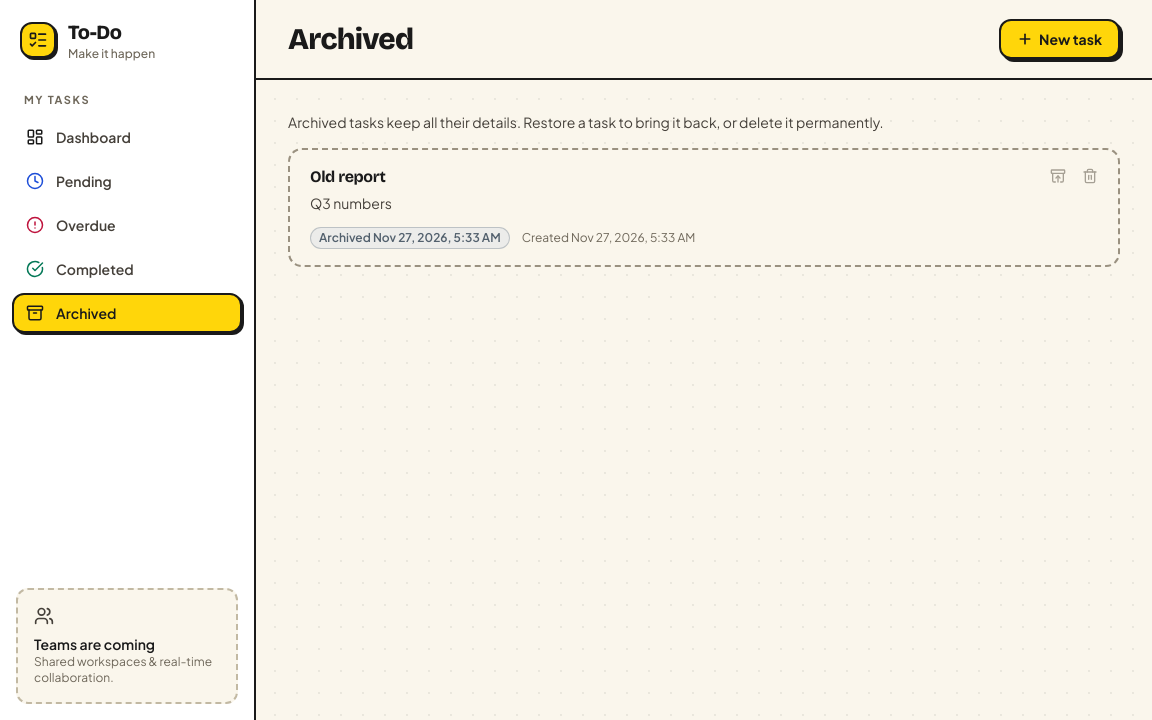
Test: Archived page › asks for confirmation before deleting permanently, warning it cannot be undone
This screenshot has width=1152, height=720.
Expected: the list named "Tasks" is shown, [288,148,1120,267]
Click the button named "Delete \"Old report\" permanently" at point(1090, 176), box [1074,160,1106,192]
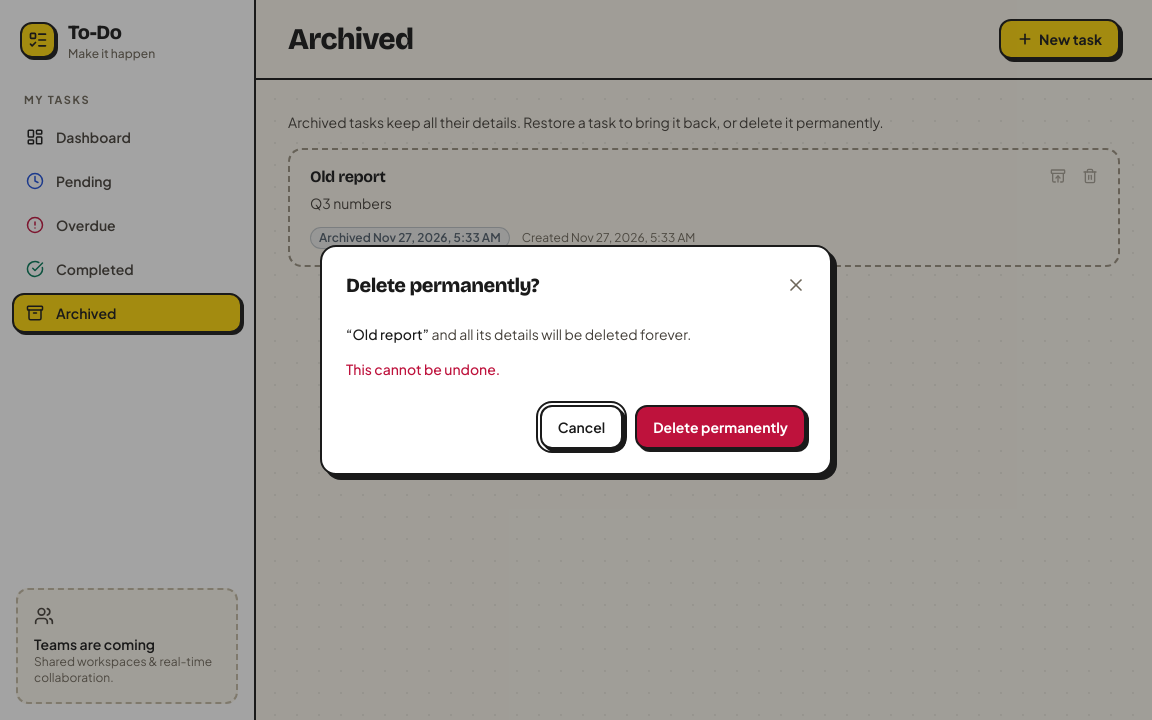
Now the text "This cannot be undone." is shown, box [346,360,500,378]
